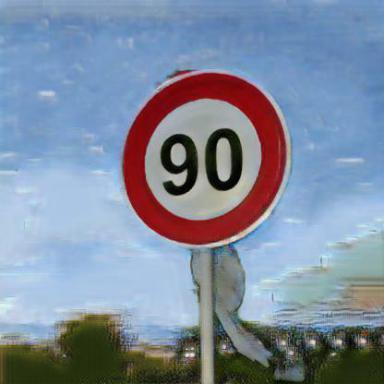Speed_limit_90: (121, 73, 289, 244)
